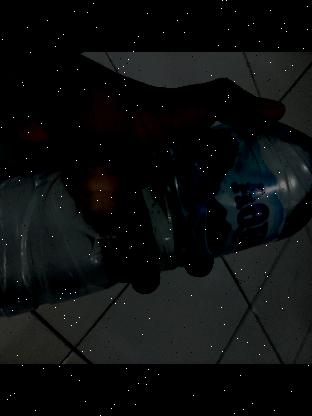Plastic Bottle: (0, 117, 312, 336)
